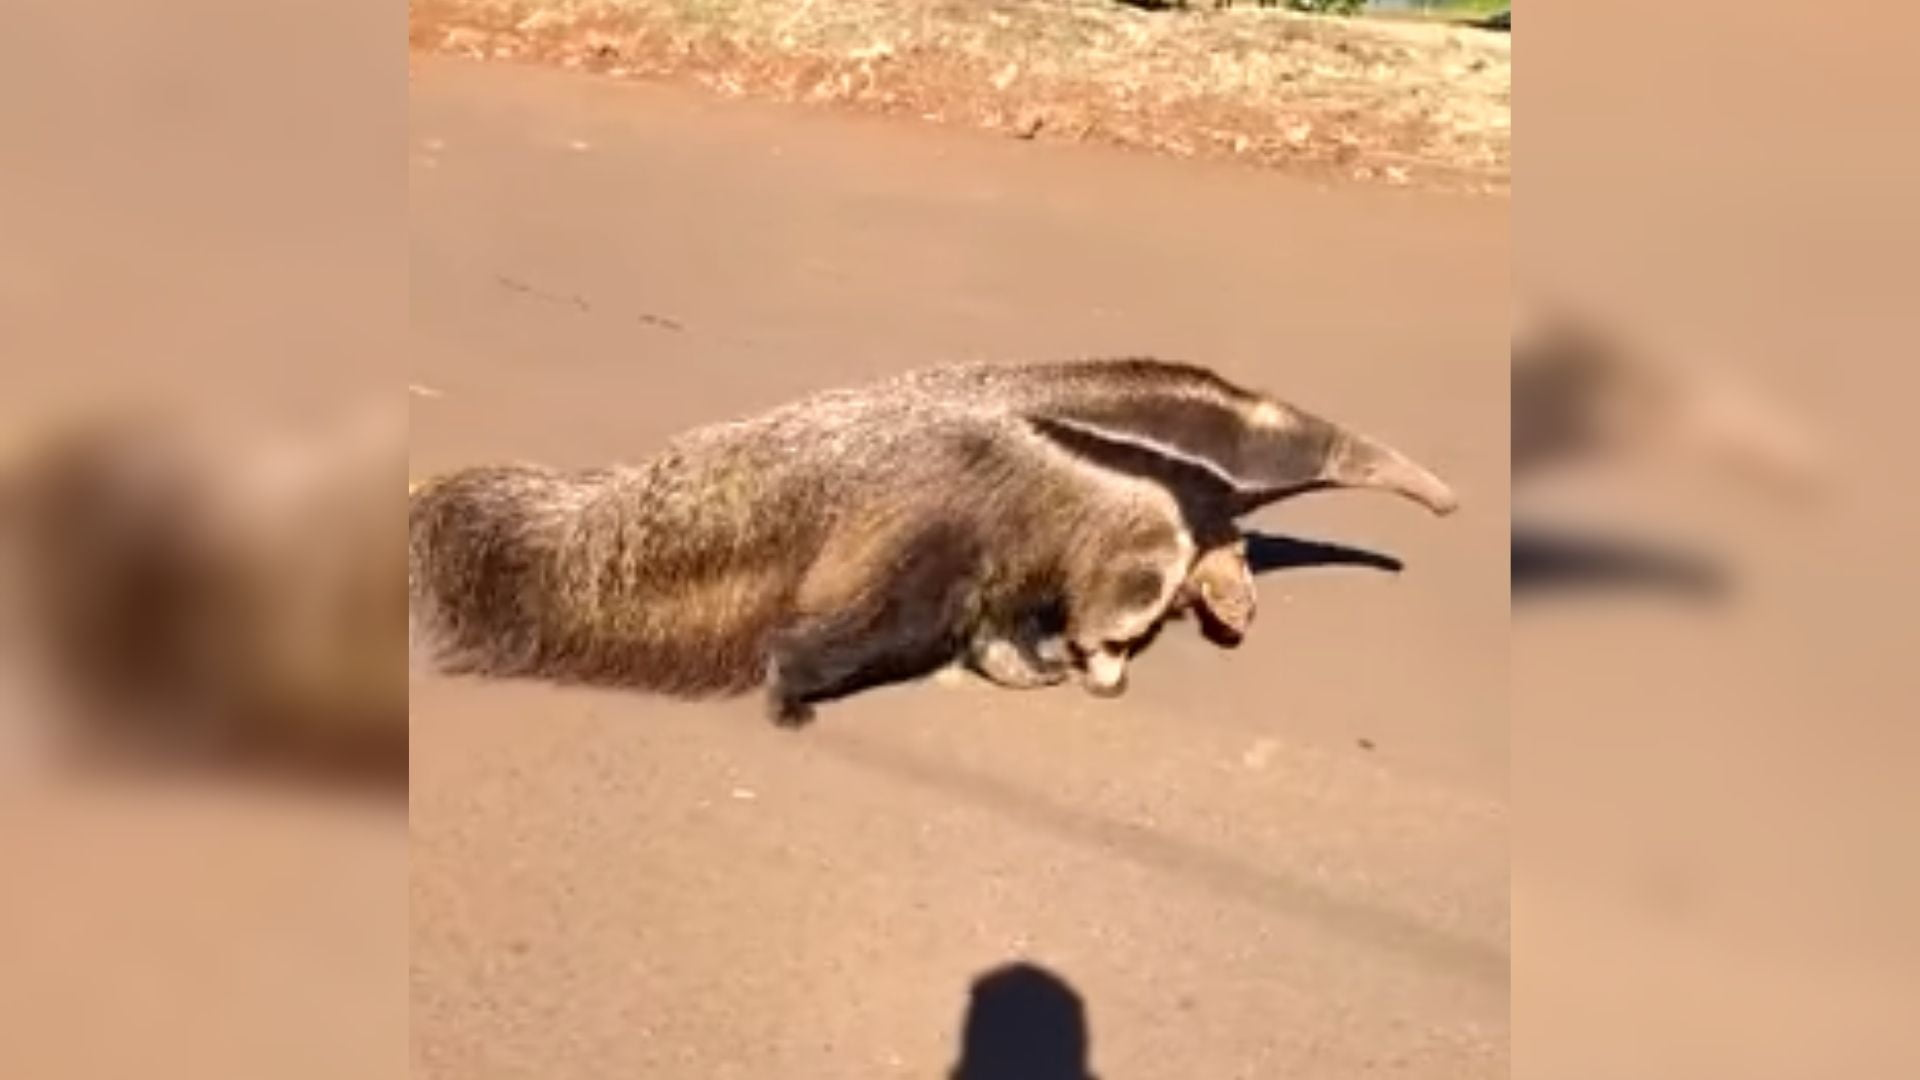TamanduaBandeira: (415, 347, 1465, 736)
